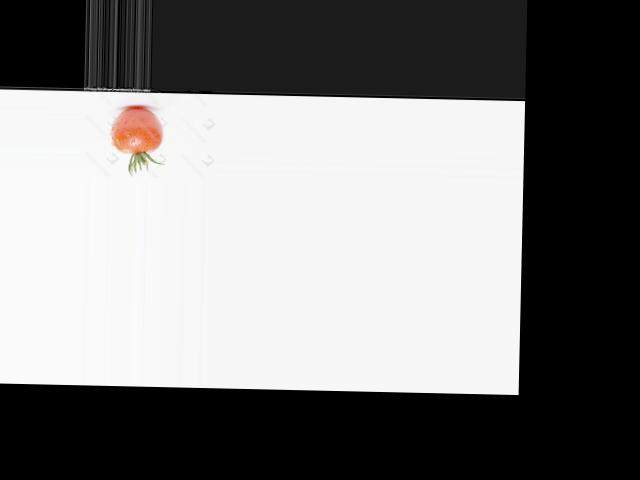tomato: (112, 106, 164, 153)
